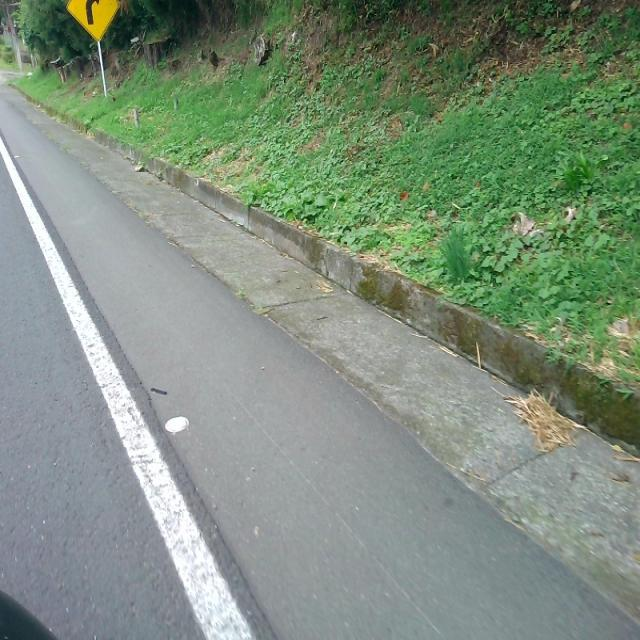DITCH: (1, 79, 638, 638), (1, 88, 638, 638), (2, 89, 638, 638)
